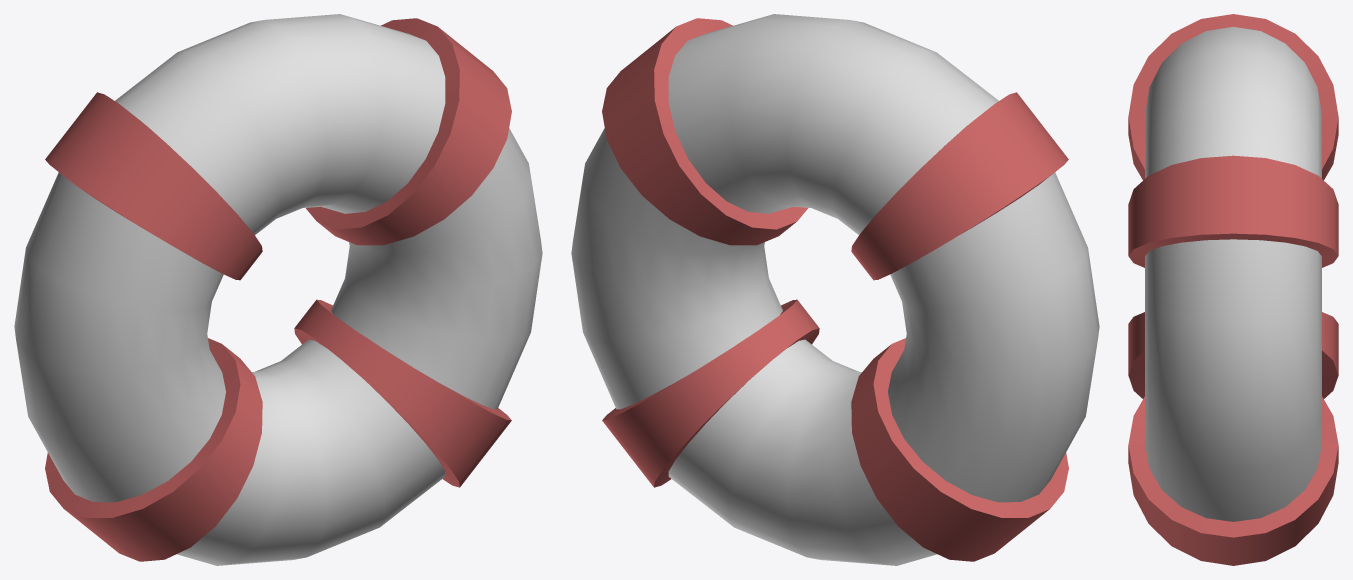
The model's file is life_ring.fbx.
3 renders of one model, left to right at view 1: azimuth 30°, elevation 25°; view 2: azimuth 150°, elevation 25°; view 3: azimuth 270°, elevation 25°, orthographic. The views are drawn at different scales.
Visible parts, largest first — view 1: pTorus2; view 2: pTorus2; view 3: pTorus2.
Boxes of the visible parts, left/top/right/bottom form: pTorus2: left=14, top=14, right=542, bottom=565; pTorus2: left=571, top=14, right=1099, bottom=565; pTorus2: left=1128, top=14, right=1338, bottom=565.
Size of the model in its own units: 1.24 by 1.24 by 0.4913.
